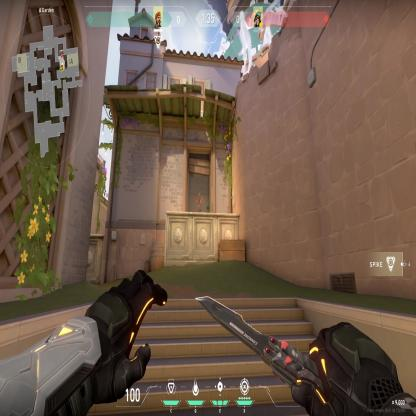enemy: (194, 190, 203, 213)
